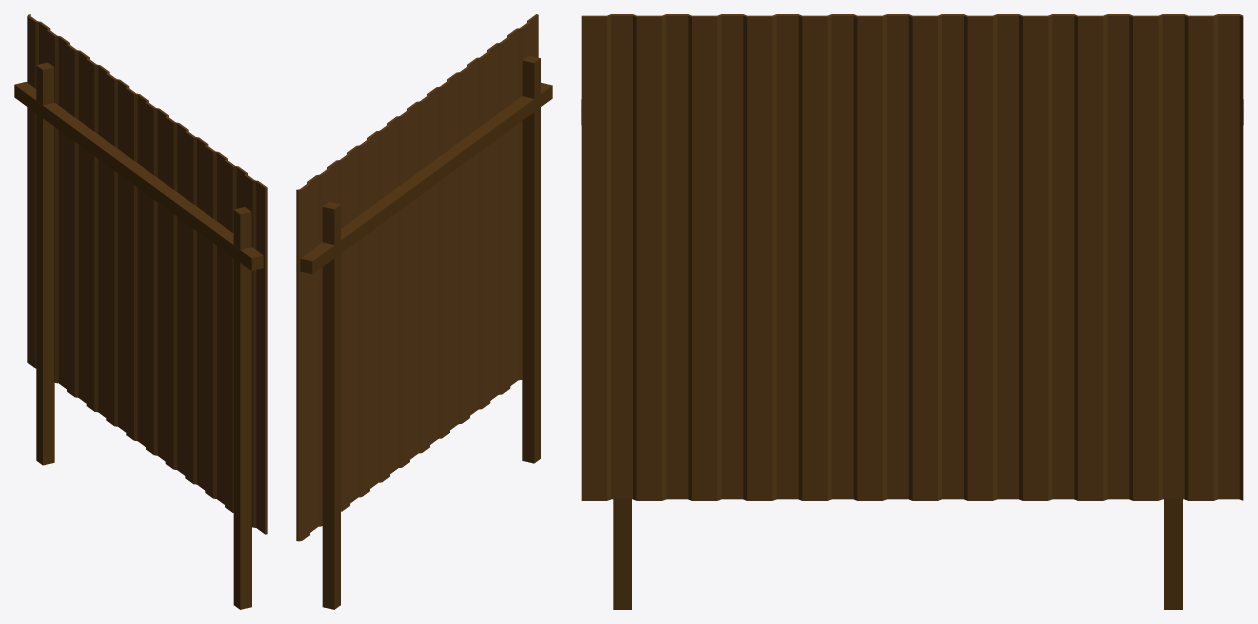
The model's file is Wall.fbx.
The picture shows the model from 3 angles, left to right: view 1: azimuth 30°, elevation 25°; view 2: azimuth 150°, elevation 25°; view 3: azimuth 270°, elevation 25°; orthographic projection. The views are drawn at different scales.
Parts seen in each view (by area): view 1: Cube, Cube.001, Cube.002, Cube.003; view 2: Cube, Cube.001, Cube.002, Cube.003; view 3: Cube, Cube.001, Cube.002.
Boxes of the visible parts, x1,y1,x2,y2 form: Cube: (27,14,267,534); Cube.001: (233,207,251,609); Cube.002: (36,62,54,465); Cube.003: (14,82,263,270); Cube: (296,14,538,541); Cube.001: (522,55,540,463); Cube.002: (322,201,340,609); Cube.003: (300,82,552,274); Cube: (581,14,1243,500); Cube.001: (613,499,631,609); Cube.002: (1164,499,1182,609).
Bounding box in the file's own units: 71.76 × 1816 × 1829.
